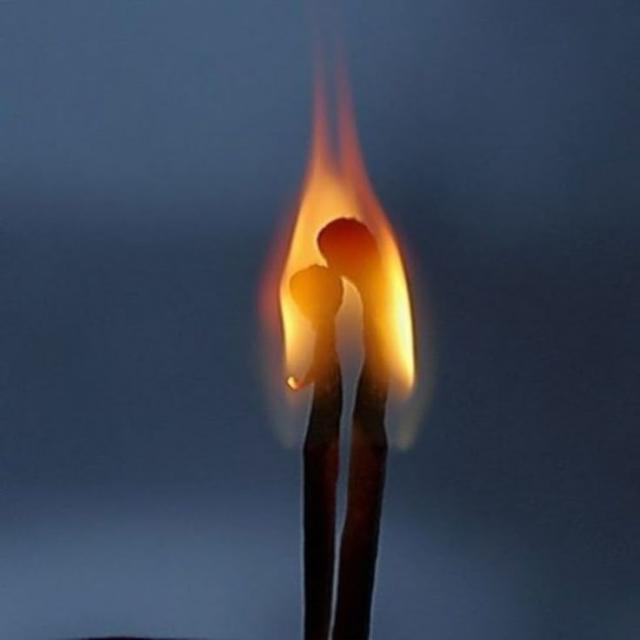fire: (257, 67, 431, 451)
